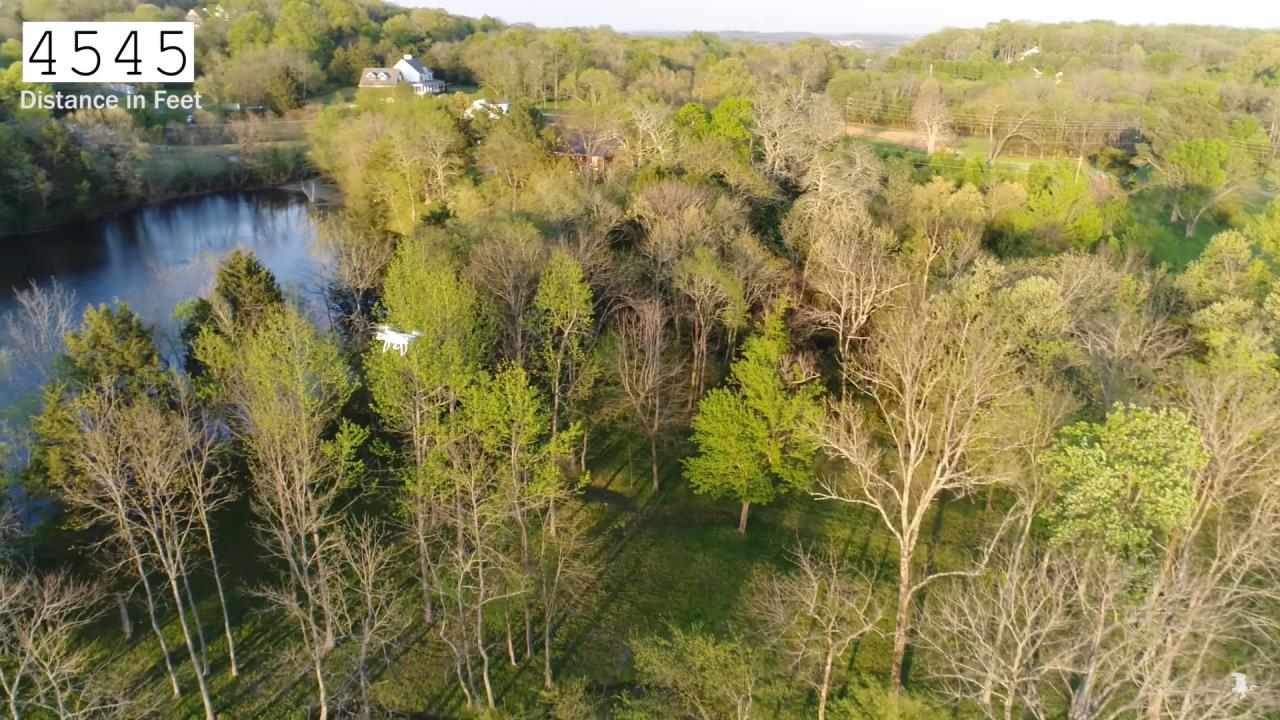Drone: (371, 319, 428, 360)
